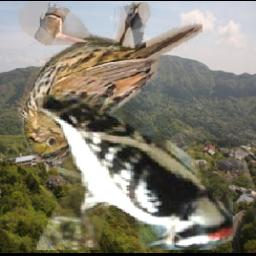Sparrow: (18, 2, 202, 161)
Woodpecker: (38, 95, 234, 250)
